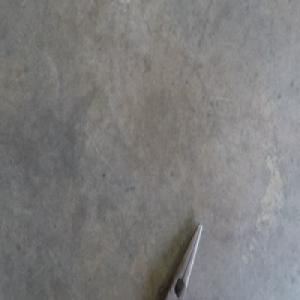Pliers: (165, 222, 202, 298)
